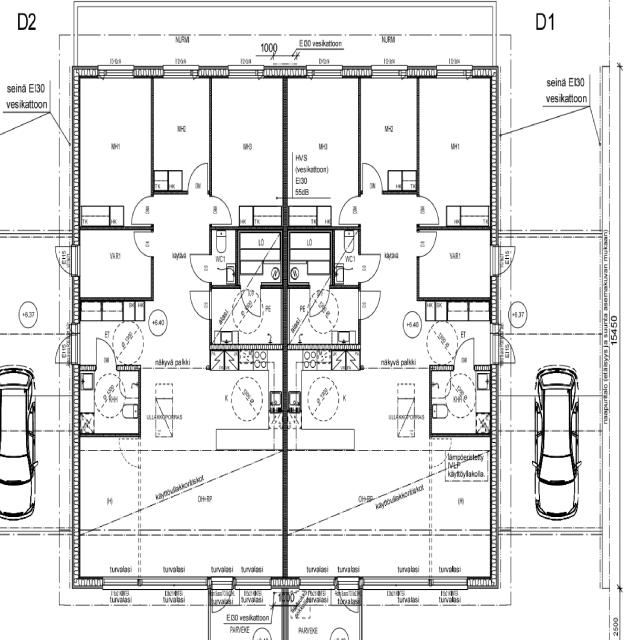door: (51, 243, 79, 275), (52, 334, 79, 364), (338, 577, 358, 617), (490, 334, 518, 362), (453, 335, 474, 370), (491, 246, 517, 274), (96, 336, 117, 370), (214, 578, 232, 616), (417, 196, 440, 225), (189, 291, 212, 320), (240, 284, 260, 317), (362, 162, 382, 194), (338, 197, 361, 224), (358, 255, 380, 282), (209, 197, 231, 224), (132, 196, 154, 223), (310, 284, 329, 315), (358, 290, 380, 316), (188, 164, 206, 195), (417, 232, 438, 257), (133, 231, 153, 256), (192, 256, 212, 280), (64, 320, 79, 333), (491, 321, 506, 333)
